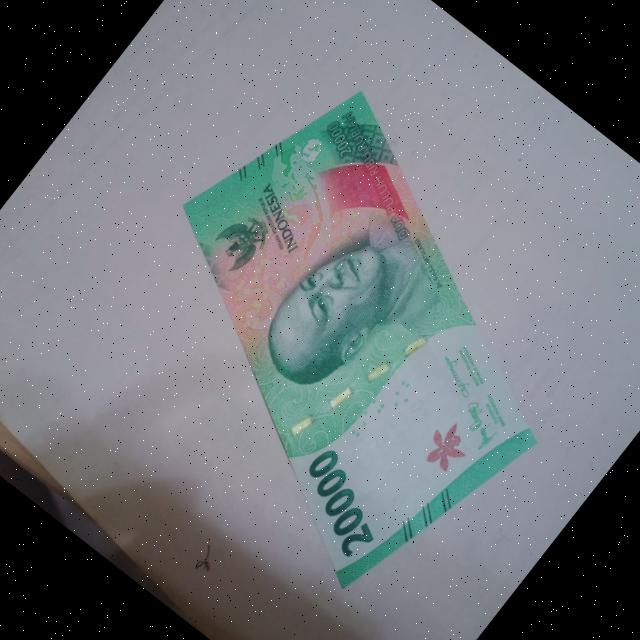20K: (44, 37, 640, 633)
